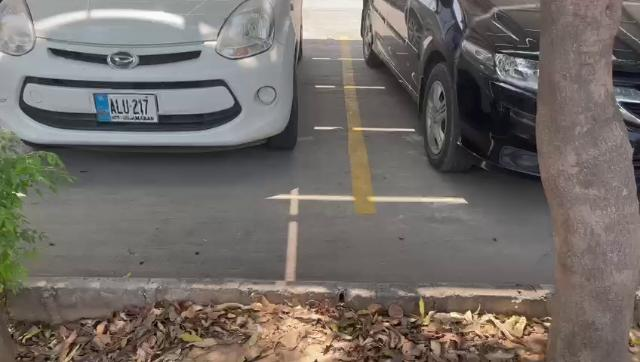plate: (90, 92, 162, 122)
